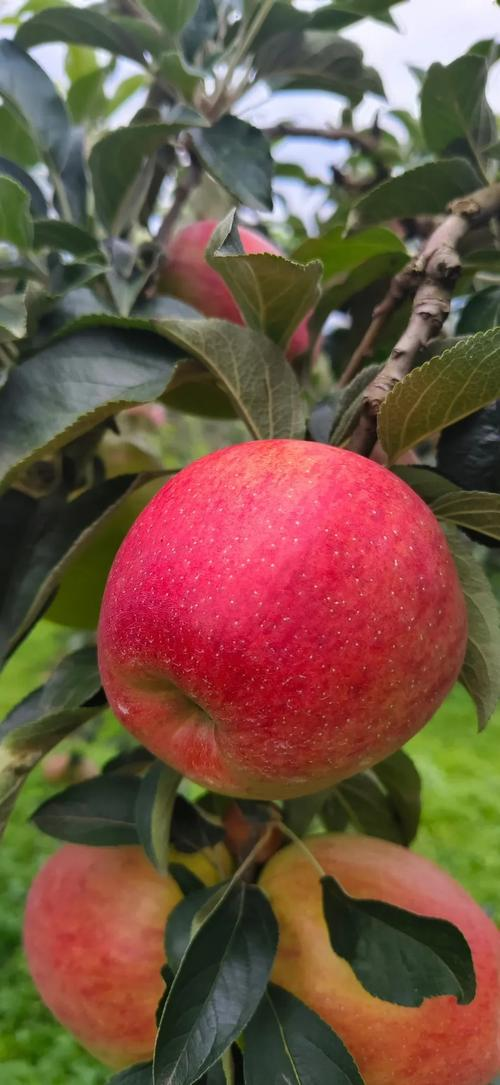ripe: (83, 426, 471, 808), (199, 819, 492, 1085), (3, 811, 238, 1066)
